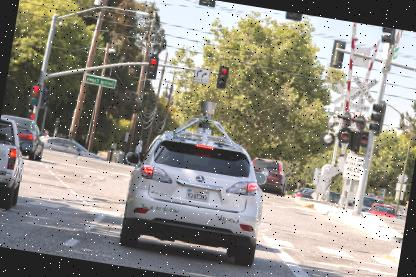car: (112, 100, 282, 273)
